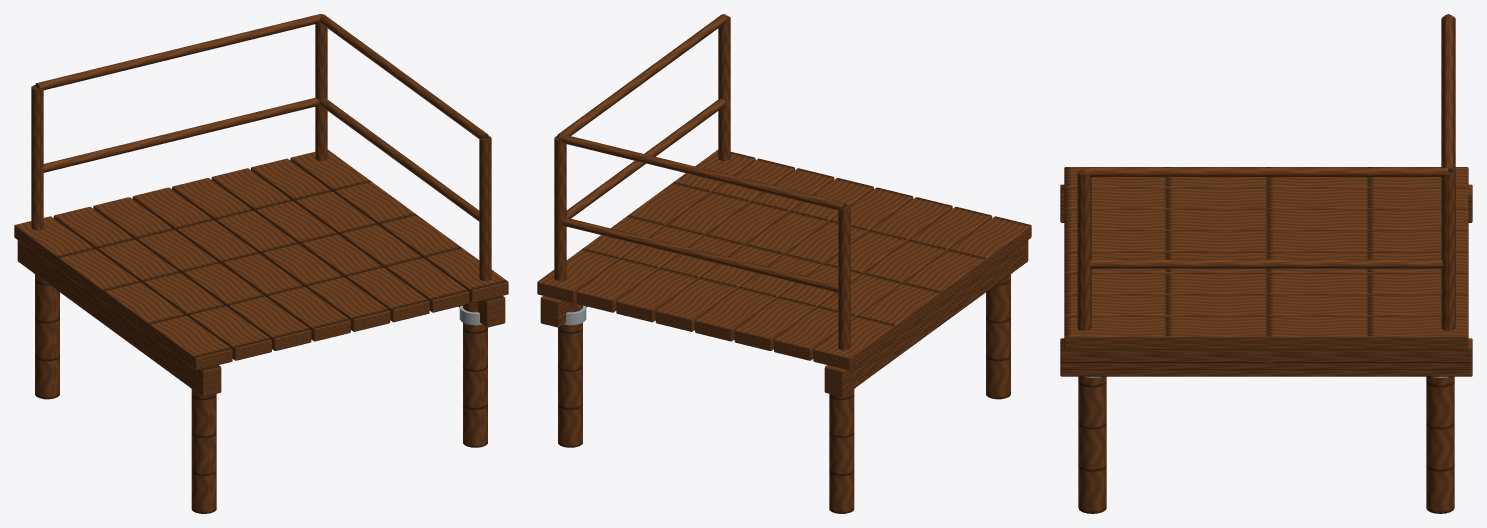
Rendered from flooded-and-coastal-survival-boardwalk-elbow-46c2e57e__20045.glb.
3 views of the same model, side by side, from view 1: azimuth 30°, elevation 25°; view 2: azimuth 150°, elevation 25°; view 3: azimuth 270°, elevation 25° (orthographic). The views are drawn at different scales.
Visible parts, largest first — view 1: boardwalk-elbow; view 2: boardwalk-elbow; view 3: boardwalk-elbow.
Boxes of the visible parts, <box> form: boardwalk-elbow: <box>14,14,508,513</box>; boardwalk-elbow: <box>537,14,1031,513</box>; boardwalk-elbow: <box>1060,14,1472,513</box>.
Size of the model in its own units: 1.99 by 1.87 by 2.04.
Materials: 2 (1 with a texture image).
